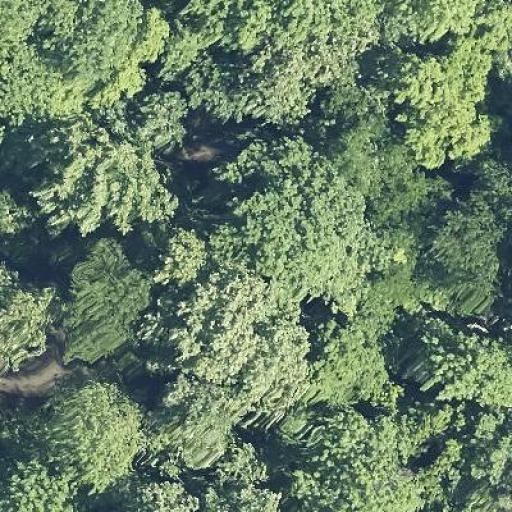tree-top: (19, 90, 196, 242), (177, 2, 343, 129), (159, 260, 312, 386), (223, 139, 360, 277), (290, 404, 468, 510), (380, 40, 504, 176), (43, 232, 155, 370), (30, 381, 152, 489), (399, 307, 511, 407), (34, 0, 143, 87), (432, 176, 512, 288), (308, 312, 396, 410), (156, 385, 246, 467), (0, 37, 82, 122), (0, 256, 57, 378), (350, 0, 471, 44), (126, 88, 196, 157), (3, 455, 81, 512), (474, 0, 512, 85), (377, 227, 417, 305), (126, 474, 202, 512), (216, 440, 272, 485), (132, 2, 172, 64), (206, 484, 284, 512)
